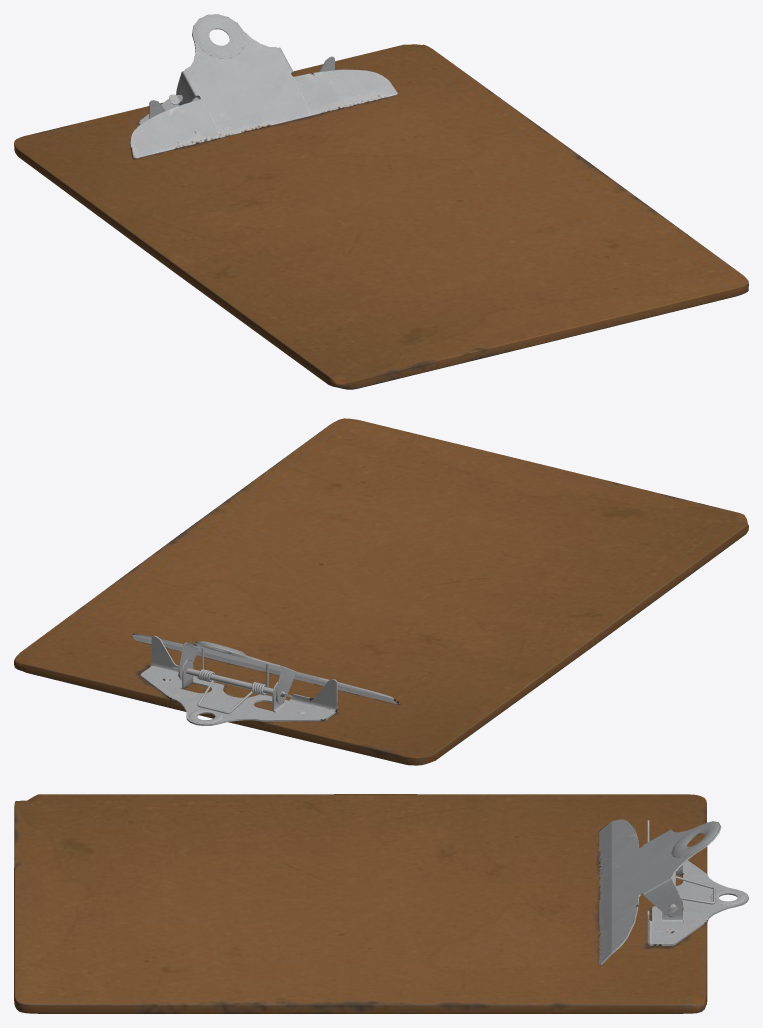
Rendered from prop_clipboard.glb.
3 views of the same model, one above another, from view 1: azimuth 30°, elevation 25°; view 2: azimuth 150°, elevation 25°; view 3: azimuth 270°, elevation 25° (orthographic). The views are drawn at different scales.
Visible parts, largest first — view 1: clipboard; view 2: clipboard; view 3: clipboard.
Part boxes in pixels (x1,y1,x2,y2): clipboard: (14, 14, 748, 389); clipboard: (14, 418, 748, 765); clipboard: (14, 794, 748, 1013).
Bounding box in the file's own units: 0.2286 × 0.042 × 0.3366.
1 material, 1 textured.
